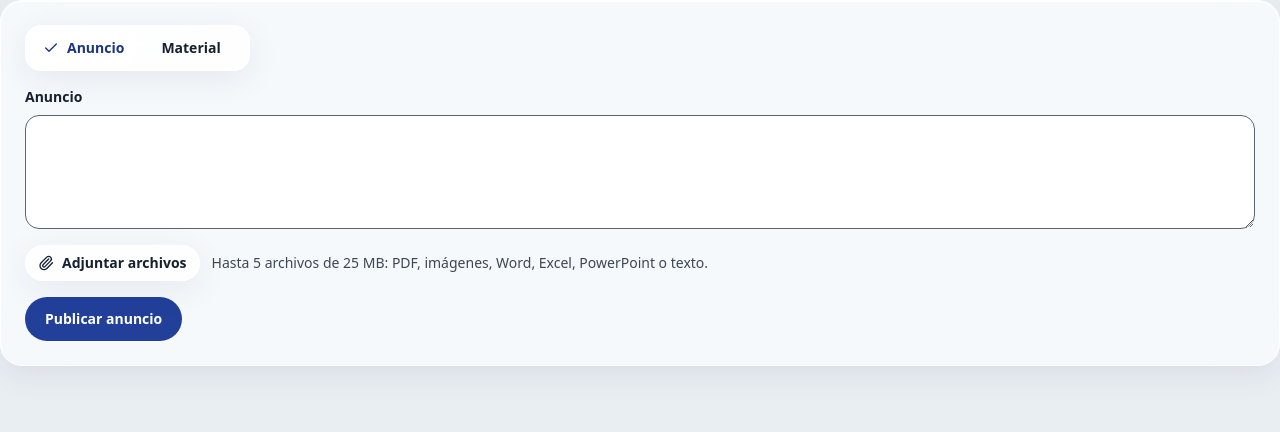
Test: CHORE-03 · la frase genérica en un ErrorDeCampo de clases: repetir el control › CH3-B10: publicar un anuncio tras F2: el mismo botón manda una petición nueva y, si responde bien, el ErrorDeCampo desaparece
The image size is (1280, 432).
Type "Mañana hay examen" into the text box labelled "Anuncio". click: (640, 172)
box: [25,115,1255,229]
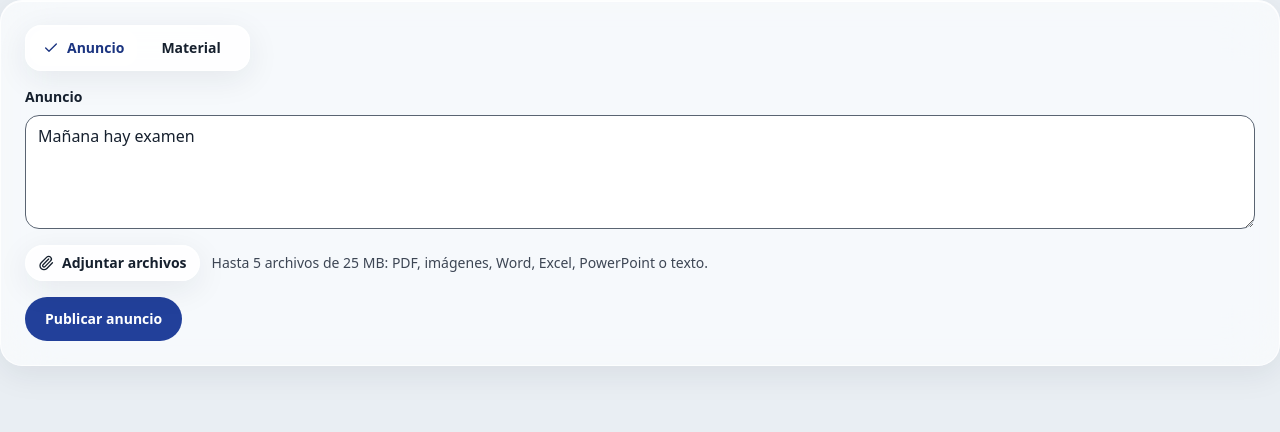
Click the button "Publicar anuncio". click: (104, 319)
box: [25,297,182,341]
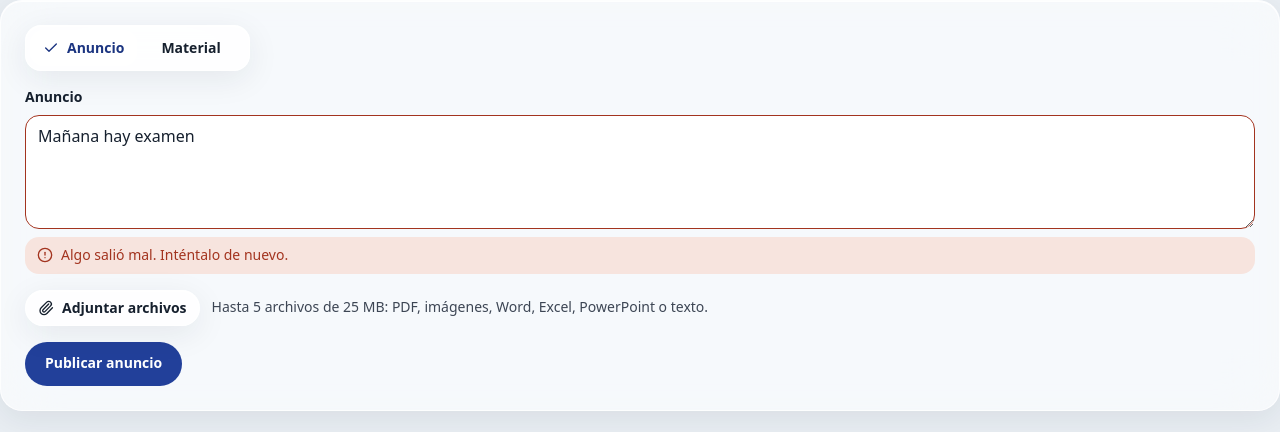
Click the button "Publicar anuncio". click: (104, 364)
box: [25,342,182,386]
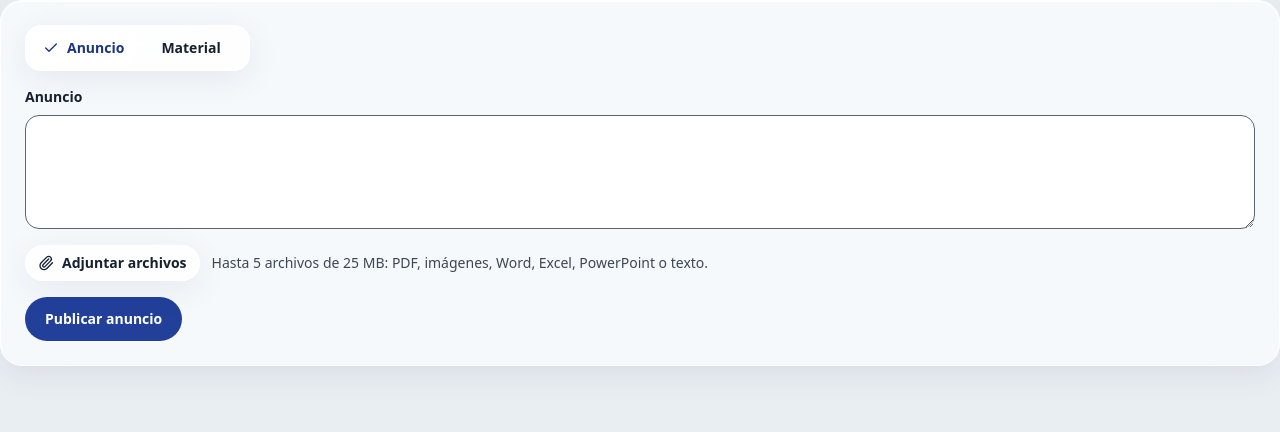
expect the text "Algo salió mal. Inténtalo de nuevo." is gone: met
